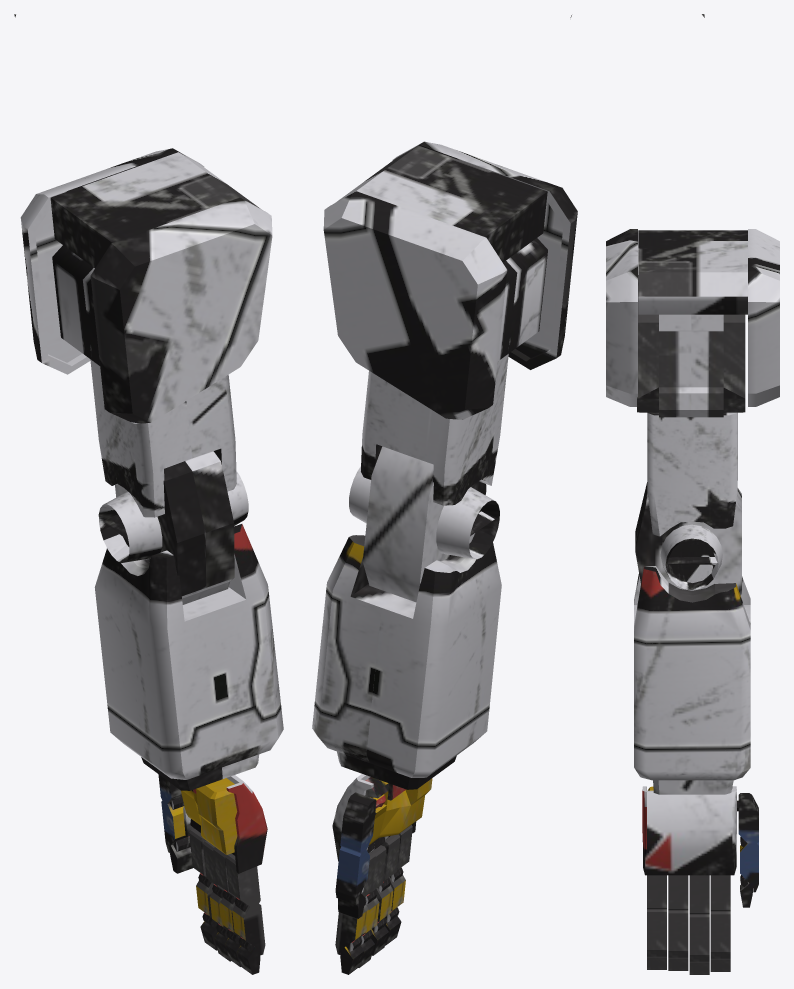
File: hand2.obj
3 views of the same model, side by side, from view 1: azimuth 30°, elevation 25°; view 2: azimuth 150°, elevation 25°; view 3: azimuth 270°, elevation 25° (orthographic). The views are drawn at different scales.
Visible parts, largest first — view 1: Gundam2:polySurface666; view 2: Gundam2:polySurface666; view 3: Gundam2:polySurface666.
Boxes of the visible parts, x1=… form: Gundam2:polySurface666: x1=14, y1=14, x2=283, y2=974; Gundam2:polySurface666: x1=312, y1=15, x2=577, y2=974; Gundam2:polySurface666: x1=606, y1=14, x2=779, y2=974.
Bounding box in the file's own units: 3.76 × 15.09 × 2.73.
Materials: 1 (1 with a texture image).
